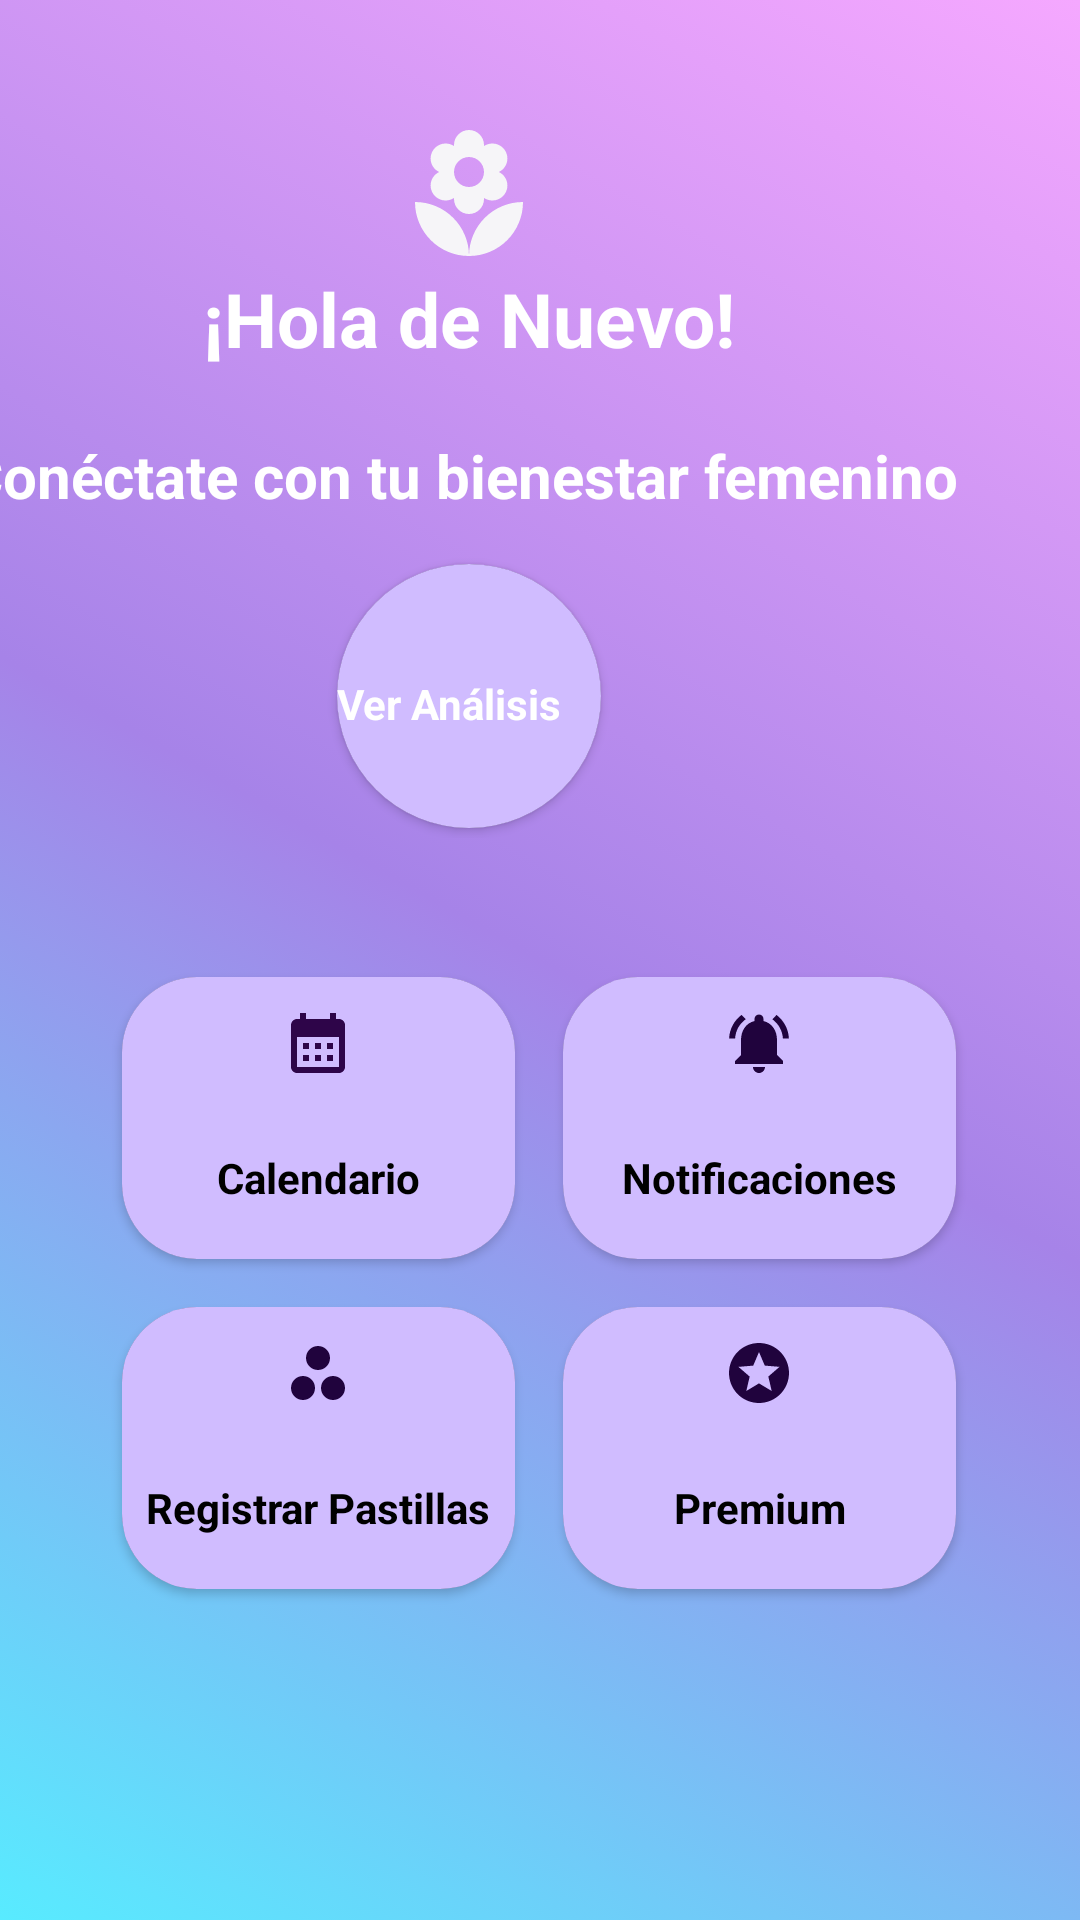

Locate icon controls on the screen. Image size 1080w x 1920h, boxes as (x1, y1, x2, y2).
flor: (415, 130, 523, 256)
